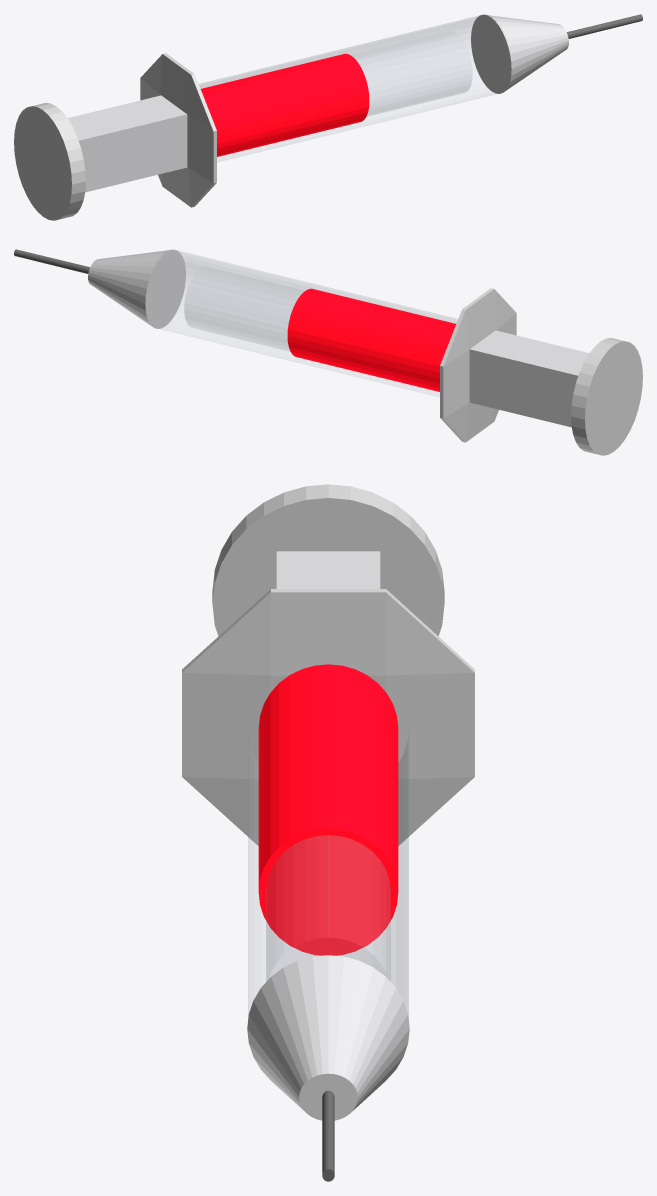
File: seringa_adrenalina.glb
The picture shows the model from 3 angles, top to bottom: view 1: azimuth 30°, elevation 25°; view 2: azimuth 150°, elevation 25°; view 3: azimuth 270°, elevation 25°; orthographic projection. The views are drawn at different scales.
Visible parts, largest first — view 1: seringa_adrenalina; view 2: seringa_adrenalina; view 3: seringa_adrenalina.
Part boxes in pixels (x1,y1,x2,y2): seringa_adrenalina: [14, 14, 642, 220]; seringa_adrenalina: [14, 249, 642, 455]; seringa_adrenalina: [182, 484, 474, 1181].
Size of the model in its own units: 0.14 by 0.0297 by 0.0297.
